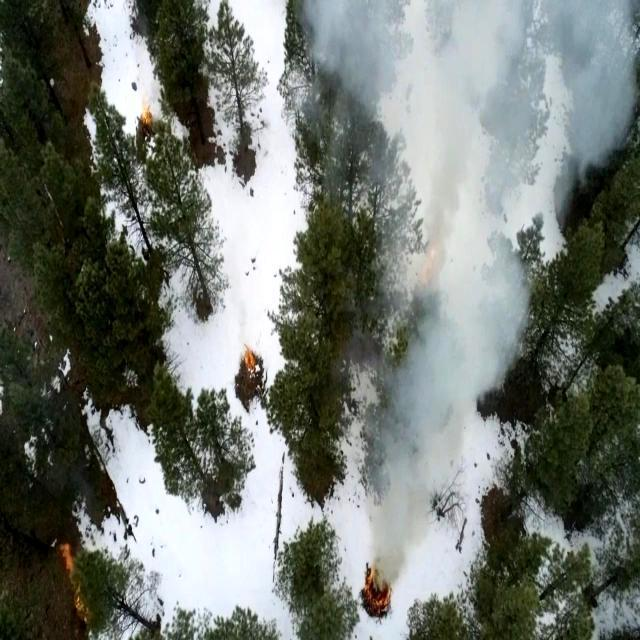Fire: (366, 568, 394, 616)
Smoke: (301, 7, 594, 352), (368, 344, 489, 565)
